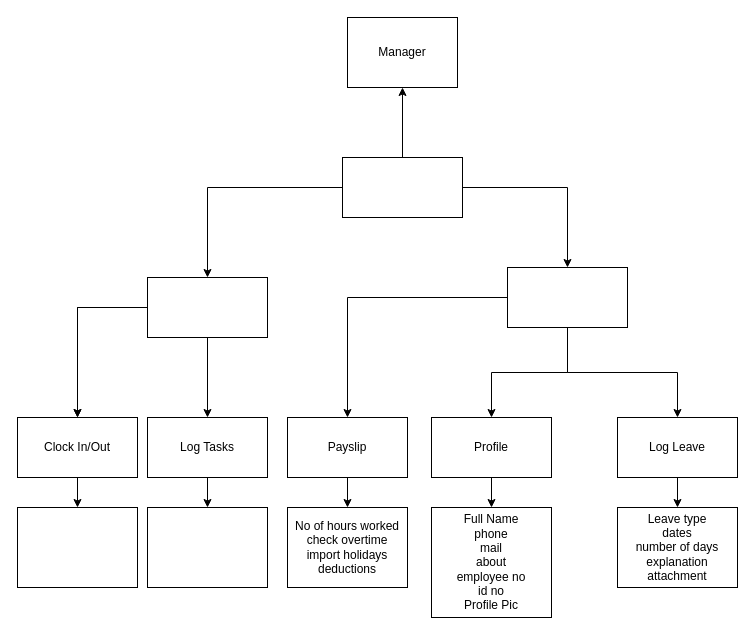
This 755x635 diagram has some shape labels left out. Here are the shapes that lost their labels. From the top down, the centre of each, then its label:
At pixel 402 187: "Ground Compatriots".
At pixel 207 307: "Work Location".
At pixel 567 297: "Personal".
At pixel 77 547: "date time in time out time worked".
At pixel 207 547: "Checked Incident subject body attachement".
